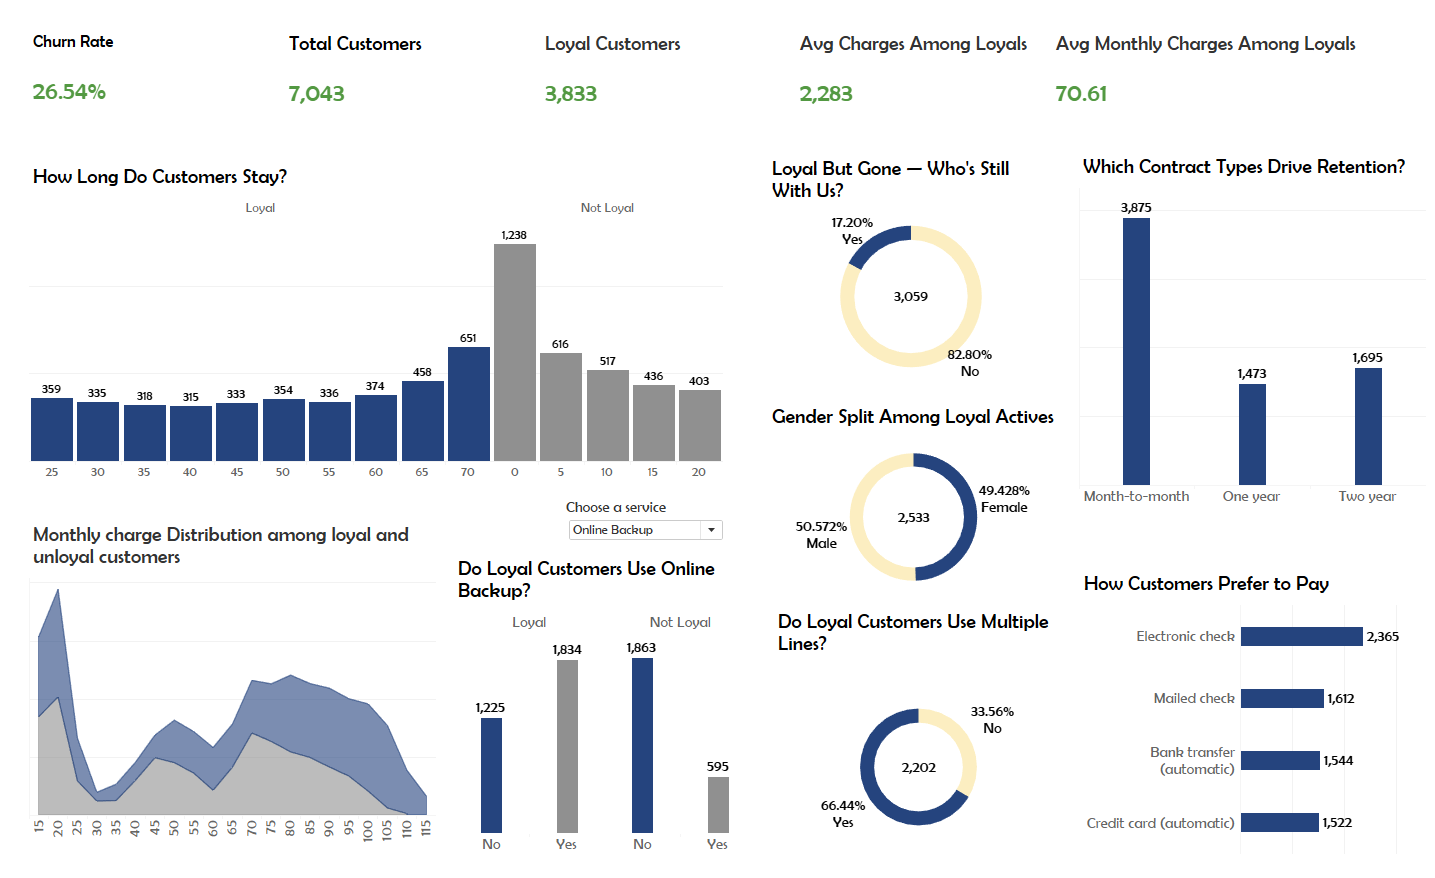

This screenshot's page, from the dashboard's own definition file:
{"tool":"tableau","page":{"name":"Churn&Loyalty Analysis","canvas":[1000,1000],"units":"permille","ordinal":0},"visuals":[{"type":"worksheet","title":"Overall Churn Rate","mark":"Automatic","box":[13.1,12.5,196.7,116]},{"type":"worksheet","title":"Total customers","mark":"Automatic","box":[209.8,12.5,196.7,116]},{"type":"worksheet","title":"Loyal Customers","mark":"Automatic","box":[406.5,12.5,196.7,116]},{"type":"worksheet","title":"Avg Total Charges Loyal","mark":"Automatic","box":[603.3,12.5,196.7,116]},{"type":"worksheet","title":"Active & Inactive Customer Distribution among loyal customers","mark":"Pie","rows":["Calculation_759419515333021697","zero (copy)_759419515333062658"],"box":[584.6,163.3,220,265.6]},{"type":"worksheet","title":"Tenure Distribution among loyal and unloyal customers","mark":"Automatic","rows":["customerID"],"cols":["Calculation_463307839775338496","tenure M (bin)"],"box":[16.1,172.1,533.9,371.6]},{"type":"worksheet","title":"gender distribution among Active loyal customers","mark":"Pie","rows":["Calculation_759419515333021697","zero (copy)_759419515333062658"],"box":[584.6,451.4,223.8,226.9]},{"type":"parameter","param":"[Parameters].[Parameter 1]","box":[429.2,564.8,123.1,57.4]},{"type":"worksheet","title":"Monthly charge Distribution among loyal and unloyal customers ","mark":"Area","rows":["customerID"],"cols":["Monthly Charges (bin)"],"box":[16.1,588.5,313.1,390.3]},{"type":"worksheet","title":"TechSupport Impact on Customer loyalty","mark":"Automatic","rows":["customerID"],"cols":["Calculation_463307839775338496","Calculation_759419515331465216"],"box":[343.1,628.4,232.3,350.4]},{"type":"worksheet","title":"multiple line distribution among active loyal customers","mark":"Pie","rows":["Calculation_759419515333021697","zero (copy)_759419515333062658"],"box":[589.2,689.5,222.3,305.5]}]}

Visuals, with their boxes on the dashboard's canvas, which has no fixed pixel size, in thousandths of its width and height (x1, y1, x2, y2). These are canvas units, not pixel positions in the 1435x878 screenshot, which may show the page scaled, cropped or inside an application window:
"Overall Churn Rate" worksheet: x1=13, y1=12, x2=210, y2=128
"Total customers" worksheet: x1=210, y1=12, x2=406, y2=128
"Loyal Customers" worksheet: x1=406, y1=12, x2=603, y2=128
"Avg Total Charges Loyal" worksheet: x1=603, y1=12, x2=800, y2=128
"Active & Inactive Customer Distribution among loyal customers" worksheet (Pie marks): x1=585, y1=163, x2=805, y2=429
"Tenure Distribution among loyal and unloyal customers" worksheet: x1=16, y1=172, x2=550, y2=544
"gender distribution among Active loyal customers" worksheet (Pie marks): x1=585, y1=451, x2=808, y2=678
parameter: x1=429, y1=565, x2=552, y2=622
"Monthly charge Distribution among loyal and unloyal customers " worksheet (Area marks): x1=16, y1=588, x2=329, y2=979
"TechSupport Impact on Customer loyalty" worksheet: x1=343, y1=628, x2=575, y2=979
"multiple line distribution among active loyal customers" worksheet (Pie marks): x1=589, y1=690, x2=812, y2=995
